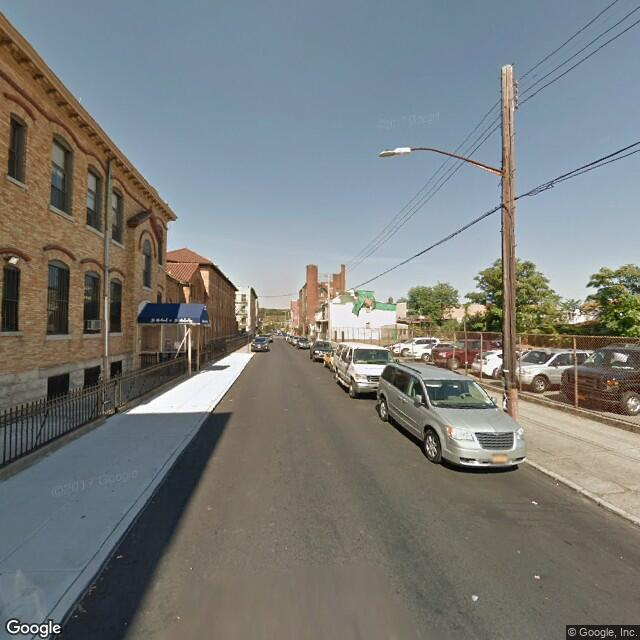litter: (534, 573, 545, 581), (471, 594, 479, 601), (533, 498, 541, 504), (116, 555, 125, 560)
